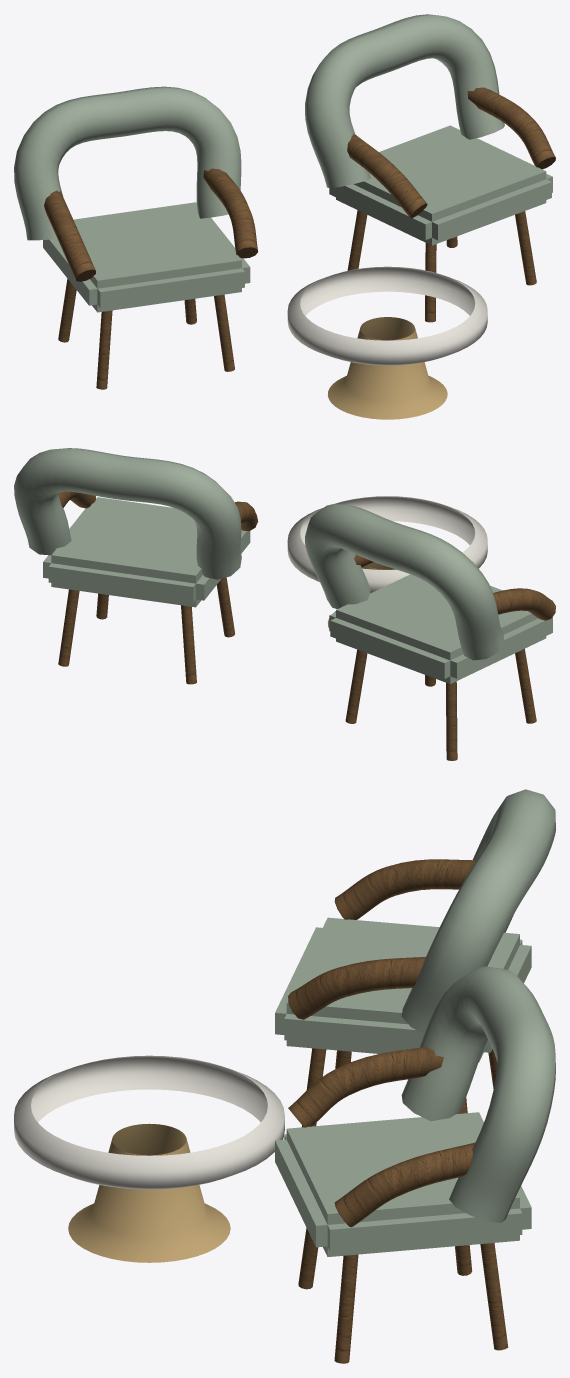
File: fixture_v25_cafe_lounge.glb
3 views of the same model, one above another, from view 1: azimuth 30°, elevation 25°; view 2: azimuth 150°, elevation 25°; view 3: azimuth 270°, elevation 25° (orthographic). The views are drawn at different scales.
Visible parts, largest first — view 1: fixture_v25_cafe_lounge_V25_woven_twill, fixture_v25_cafe_lounge_CC0_Oak_veneer, fixture_v25_cafe_lounge_Honed_solid_surface, fixture_v25_cafe_lounge_Satin_champagne; view 2: fixture_v25_cafe_lounge_V25_woven_twill, fixture_v25_cafe_lounge_CC0_Oak_veneer, fixture_v25_cafe_lounge_Honed_solid_surface; view 3: fixture_v25_cafe_lounge_V25_woven_twill, fixture_v25_cafe_lounge_CC0_Oak_veneer, fixture_v25_cafe_lounge_Honed_solid_surface, fixture_v25_cafe_lounge_Satin_champagne.
Part boxes in pixels (bbox=[...]): fixture_v25_cafe_lounge_V25_woven_twill: bbox=[14, 14, 552, 312]; fixture_v25_cafe_lounge_CC0_Oak_veneer: bbox=[44, 87, 555, 389]; fixture_v25_cafe_lounge_Honed_solid_surface: bbox=[287, 266, 487, 365]; fixture_v25_cafe_lounge_Satin_champagne: bbox=[327, 317, 447, 419]; fixture_v25_cafe_lounge_V25_woven_twill: bbox=[14, 448, 552, 684]; fixture_v25_cafe_lounge_CC0_Oak_veneer: bbox=[58, 491, 555, 760]; fixture_v25_cafe_lounge_Honed_solid_surface: bbox=[287, 496, 487, 593]; fixture_v25_cafe_lounge_V25_woven_twill: bbox=[275, 789, 555, 1256]; fixture_v25_cafe_lounge_CC0_Oak_veneer: bbox=[288, 859, 508, 1363]; fixture_v25_cafe_lounge_Honed_solid_surface: bbox=[14, 1055, 284, 1189]; fixture_v25_cafe_lounge_Satin_champagne: bbox=[68, 1123, 230, 1262].
Bounding box in the file's own units: 2.22 × 1.03 × 1.6.
Materials: 4 (1 with a texture image).
